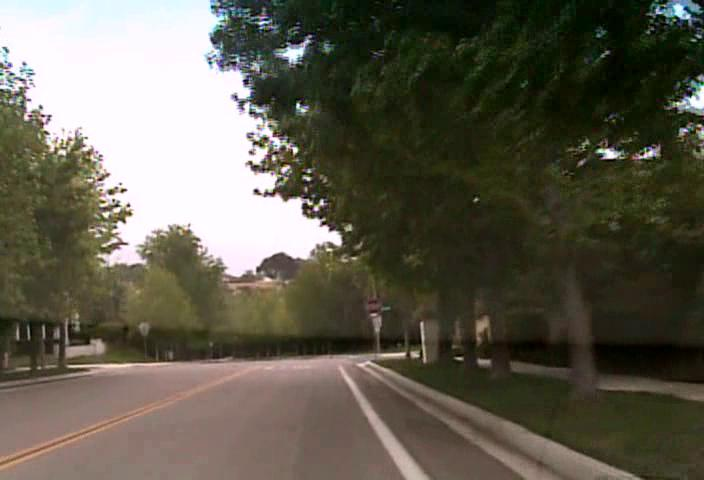stop: (365, 297, 382, 314)
